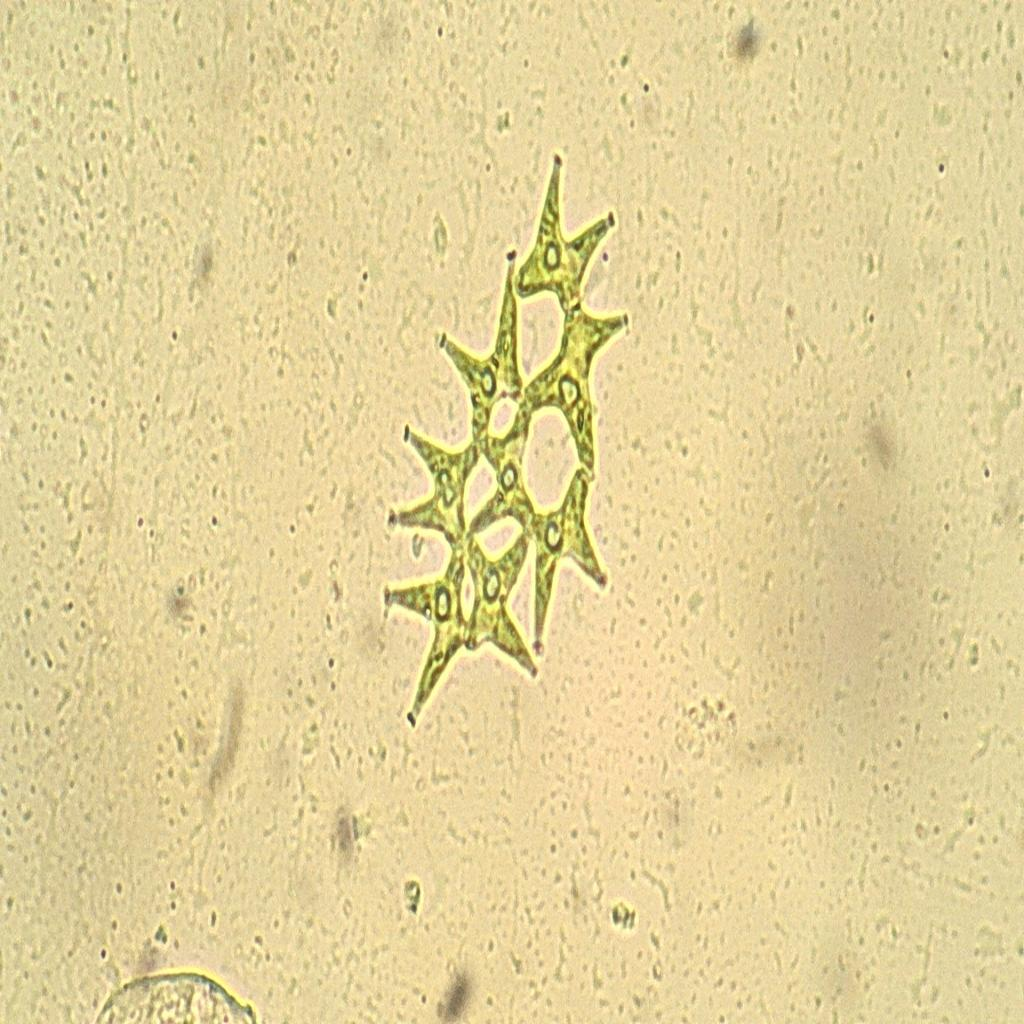Pediastrum_1TH: (355, 142, 657, 737)
